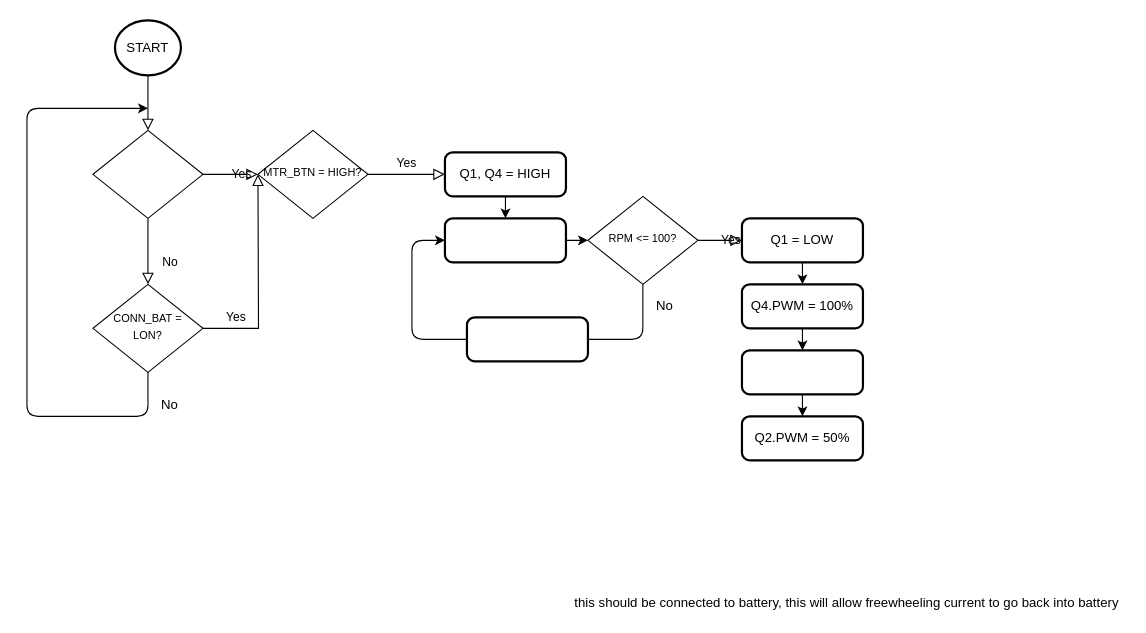
Some shapes in this 1146 by 633 pixel diagram are drawn without their labels. Here are the shapes that lost their labels. From the top down, the centre of each, then its label:
At point (147, 173): "CONN_BAT = SPRCP?".
At point (504, 240): "PWM = 50%".
At point (526, 339): "Display RPM on OLED".
At point (802, 372): "Q2 = HIGH".
